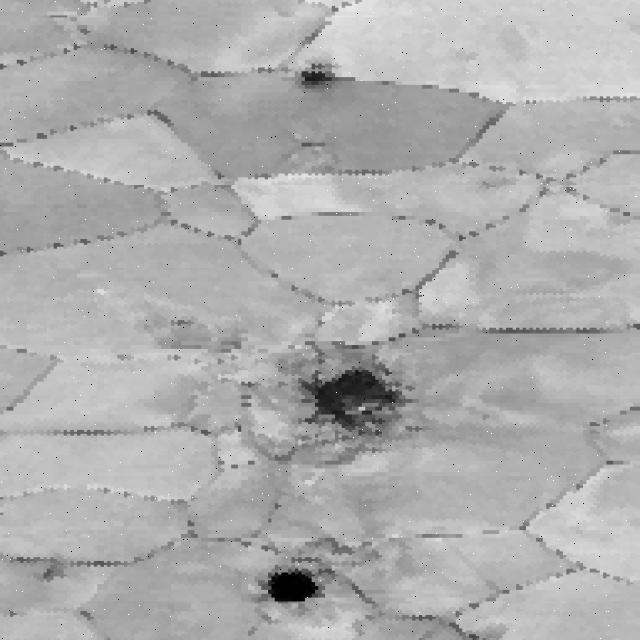good_void: (258, 353, 447, 442), (236, 555, 335, 613), (143, 312, 243, 363), (307, 530, 388, 566), (283, 125, 338, 163), (284, 66, 353, 88), (34, 559, 81, 587)
